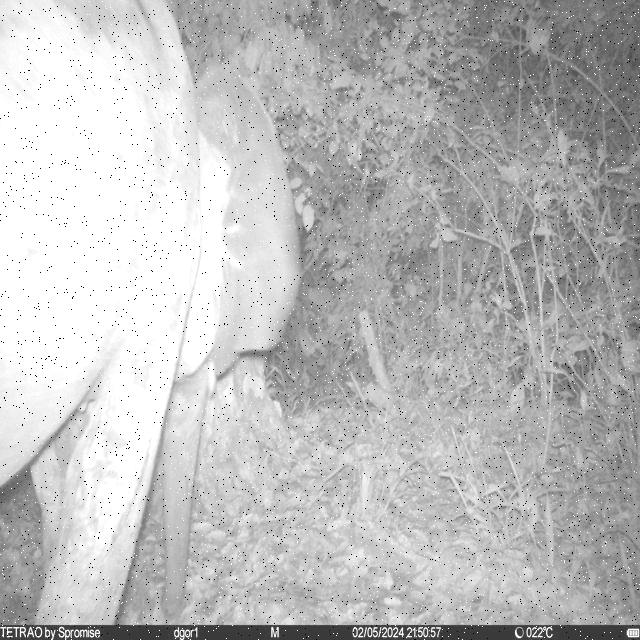ear: (194, 65, 305, 378)
elephant: (0, 0, 304, 625)
tusk: (207, 362, 220, 404)
